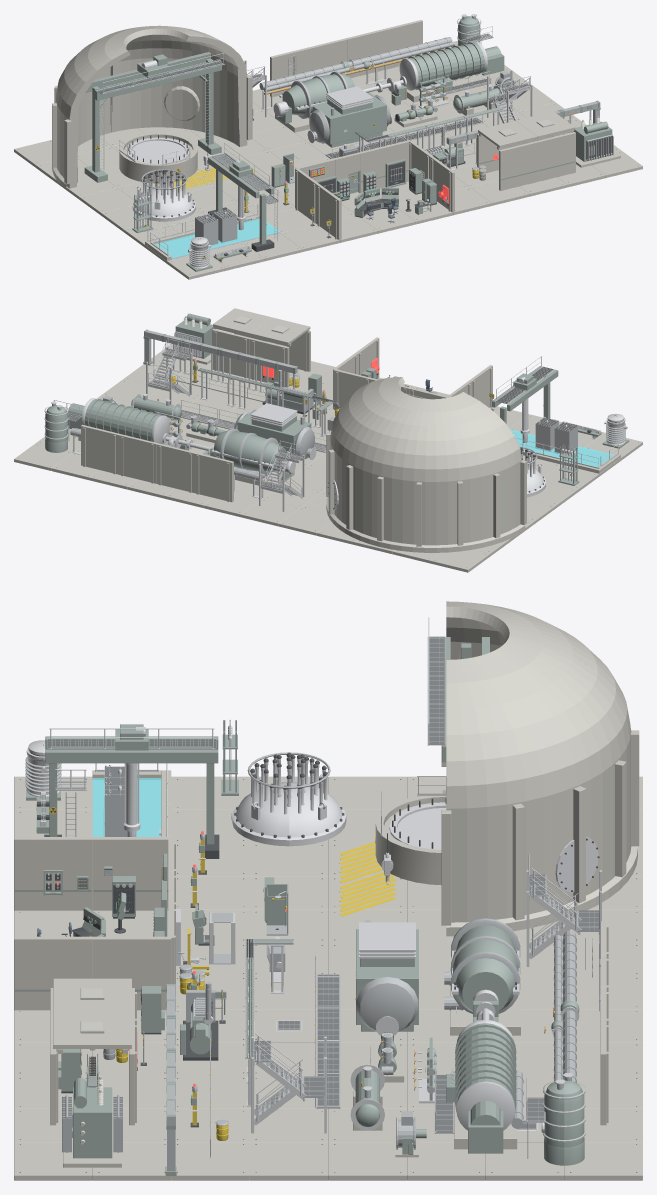
File: nuclear-station-central-control-room-plant.glb
3 views of the same model, one above another, from view 1: azimuth 30°, elevation 25°; view 2: azimuth 150°, elevation 25°; view 3: azimuth 270°, elevation 25° (orthographic). The views are drawn at different scales.
Visible parts, largest first — view 1: 114-containment-dome-section-with-hatch/0, 113-containment-dome-section/0, 117-reactor-hall-gantry-crane/0, 173-generator-set/1, 174-condenser/0, 116-reactor-vessel-head/0, 115-reactor-cavity-ring/0, 109-plant-wall-panel/0, 110-plant-wall-panel/0, 171-turbine-casing/1, 115-reactor-cavity-ring/1, 125-refuelling-machine/0 (+73 smaller); view 2: 113-containment-dome-section/0, 114-containment-dome-section-with-hatch/0, 173-generator-set/1, 171-turbine-casing/1, 103-plant-wall-panel/0, 104-plant-wall-panel/0, 105-plant-wall-panel/0, 106-plant-wall-panel/0, 174-condenser/0, 108-plant-wall-panel/0, 107-plant-wall-panel/0, 120-stair-tower/0 (+49 smaller); view 3: 114-containment-dome-section-with-hatch/0, 116-reactor-vessel-head/0, 113-containment-dome-section/0, 173-generator-set/1, 101-plant-wall-panel/0, 125-refuelling-machine/0, 102-plant-wall-panel/0, 099-plant-wall-panel/0, 100-plant-wall-panel/0, 171-turbine-casing/1, 115-reactor-cavity-ring/0, 092-plant-floor-slab/0 (+109 smaller).
Part boxes in pixels (x1=…): 114-containment-dome-section-with-hatch/0: x1=111, y1=25, x2=252, y2=146; 113-containment-dome-section/0: x1=52, y1=29, x2=142, y2=189; 117-reactor-hall-gantry-crane/0: x1=84, y1=52, x2=221, y2=182; 173-generator-set/1: x1=408, y1=42, x2=504, y2=92; 174-condenser/0: x1=313, y1=92, x2=386, y2=147; 116-reactor-vessel-head/0: x1=132, y1=172, x2=195, y2=221; 115-reactor-cavity-ring/0: x1=119, y1=132, x2=197, y2=183; 109-plant-wall-panel/0: x1=499, y1=141, x2=538, y2=190; 110-plant-wall-panel/0: x1=537, y1=132, x2=575, y2=181; 171-turbine-casing/1: x1=278, y1=73, x2=354, y2=123; 115-reactor-cavity-ring/1: x1=119, y1=137, x2=190, y2=165; 125-refuelling-machine/0: x1=208, y1=153, x2=274, y2=244; 113-containment-dome-section/0: x1=377, y1=392, x2=526, y2=552; 114-containment-dome-section-with-hatch/0: x1=326, y1=377, x2=414, y2=546; 173-generator-set/1: x1=68, y1=399, x2=161, y2=441; 171-turbine-casing/1: x1=210, y1=430, x2=291, y2=479; 103-plant-wall-panel/0: x1=194, y1=452, x2=233, y2=502; 104-plant-wall-panel/0: x1=156, y1=443, x2=195, y2=492; 105-plant-wall-panel/0: x1=118, y1=434, x2=157, y2=483; 106-plant-wall-panel/0: x1=81, y1=424, x2=119, y2=474; 174-condenser/0: x1=237, y1=409, x2=311, y2=460; 108-plant-wall-panel/0: x1=212, y1=329, x2=250, y2=378; 107-plant-wall-panel/0: x1=250, y1=338, x2=289, y2=387; 120-stair-tower/0: x1=259, y1=440, x2=304, y2=511; 114-containment-dome-section-with-hatch/0: x1=441, y1=633, x2=639, y2=936; 116-reactor-vessel-head/0: x1=231, y1=757, x2=346, y2=846; 113-containment-dome-section/0: x1=441, y1=601, x2=639, y2=846; 173-generator-set/1: x1=446, y1=1023, x2=516, y2=1153; 101-plant-wall-panel/0: x1=14, y1=837, x2=92, y2=910; 125-refuelling-machine/0: x1=45, y1=736, x2=218, y2=844; 102-plant-wall-panel/0: x1=14, y1=936, x2=92, y2=1010; 099-plant-wall-panel/0: x1=92, y1=837, x2=171, y2=910; 100-plant-wall-panel/0: x1=92, y1=936, x2=171, y2=1010; 171-turbine-casing/1: x1=452, y1=925, x2=518, y2=1016; 115-reactor-cavity-ring/0: x1=375, y1=795, x2=446, y2=884; 092-plant-floor-slab/0: x1=250, y1=1142, x2=328, y2=1180.
Size of the model in its own units: 48.34 by 12.78 by 32.
